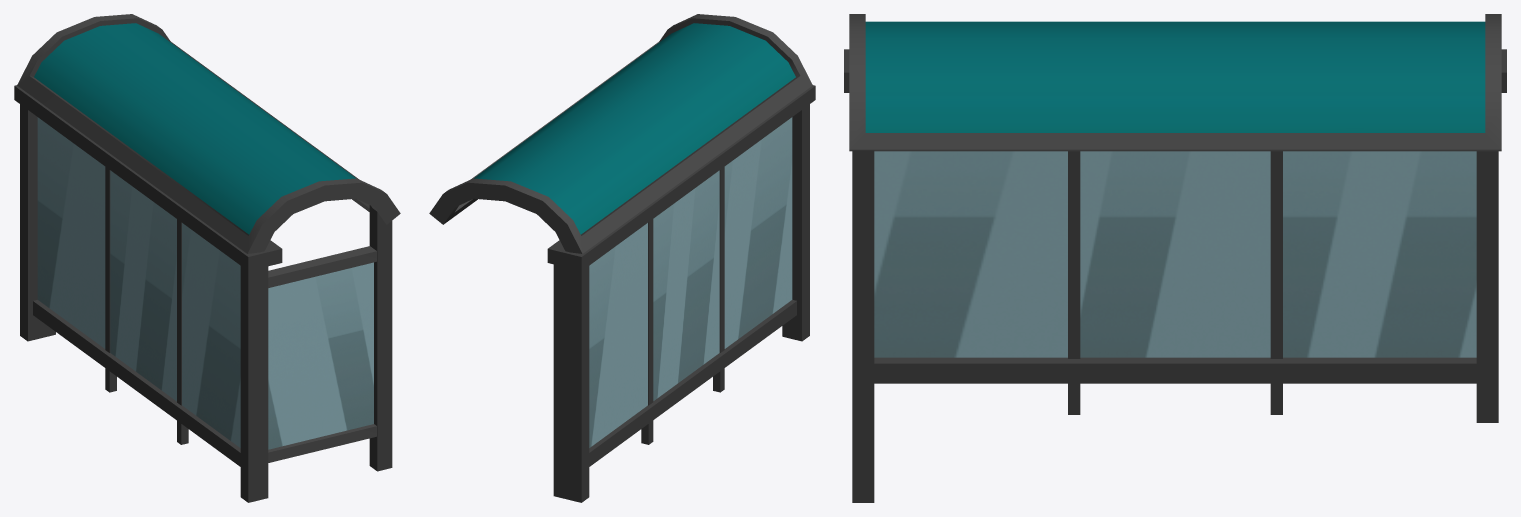
File: BusStop_B.fbx
The picture shows the model from 3 angles, left to right: view 1: azimuth 30°, elevation 25°; view 2: azimuth 150°, elevation 25°; view 3: azimuth 270°, elevation 25°; orthographic projection. The views are drawn at different scales.
Parts seen in each view (by area): view 1: BusStop_B; view 2: BusStop_B; view 3: BusStop_B.
Part boxes in pixels (x1,y1,x2,y2): BusStop_B: (14,14,400,502); BusStop_B: (429,14,815,502); BusStop_B: (844,14,1506,502).
Bounding box in the file's own units: 153 × 284 × 403.
